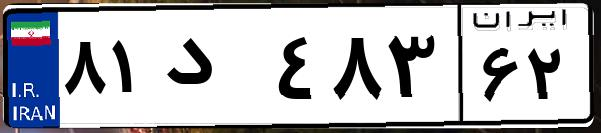1: (110, 28, 158, 98)
2: (525, 38, 570, 115)
3: (385, 28, 445, 110)
4: (270, 28, 330, 110)
6: (475, 38, 525, 113)
8: (330, 28, 385, 110), (57, 26, 110, 100)
د: (158, 20, 270, 120)
